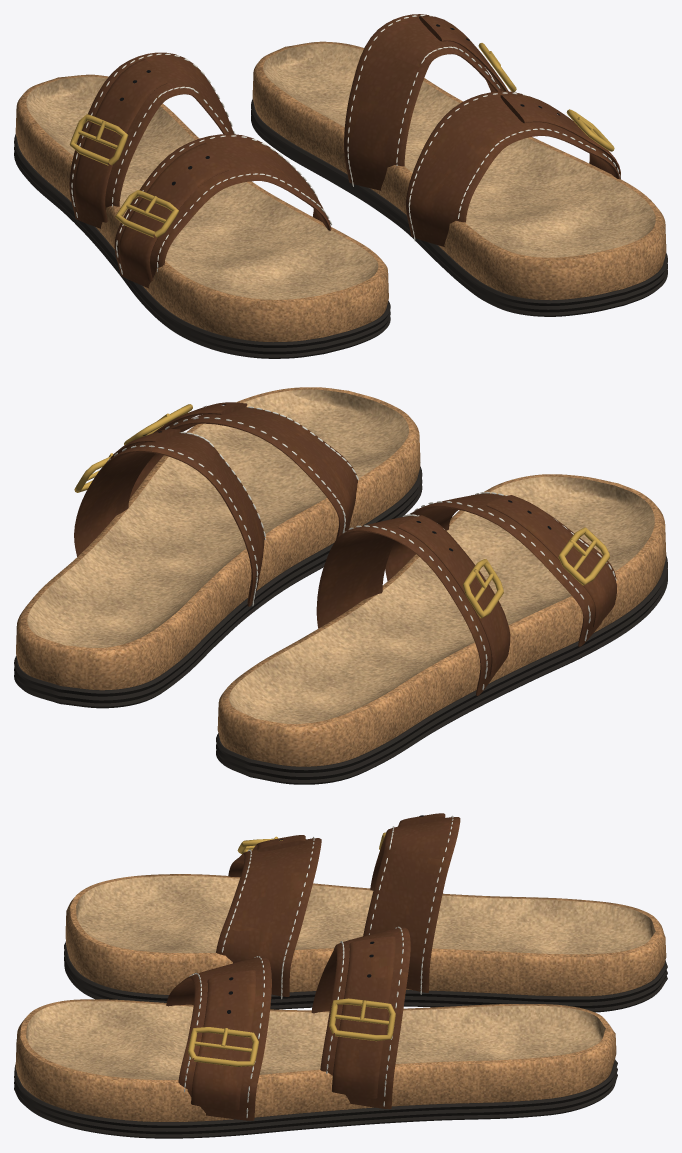
Rendered from leather-sandal.glb.
3 views of the same model, one above another, from view 1: azimuth 30°, elevation 25°; view 2: azimuth 150°, elevation 25°; view 3: azimuth 270°, elevation 25° (orthographic). The views are drawn at different scales.
Parts seen in each view (by area): view 1: Left_Shoe, Right_Shoe; view 2: Right_Shoe, Left_Shoe; view 3: Left_Shoe, Right_Shoe.
Part boxes in pixels (x1,y1,x2,y2): Left_Shoe: [251, 14, 667, 316]; Right_Shoe: [14, 52, 390, 358]; Right_Shoe: [216, 474, 667, 784]; Left_Shoe: [14, 387, 422, 708]; Left_Shoe: [14, 926, 617, 1138]; Right_Shoe: [64, 813, 667, 1012].
Bounding box in the file's own units: 0.2511 × 0.084 × 0.3149.
Materials: 8 (4 with a texture image).
